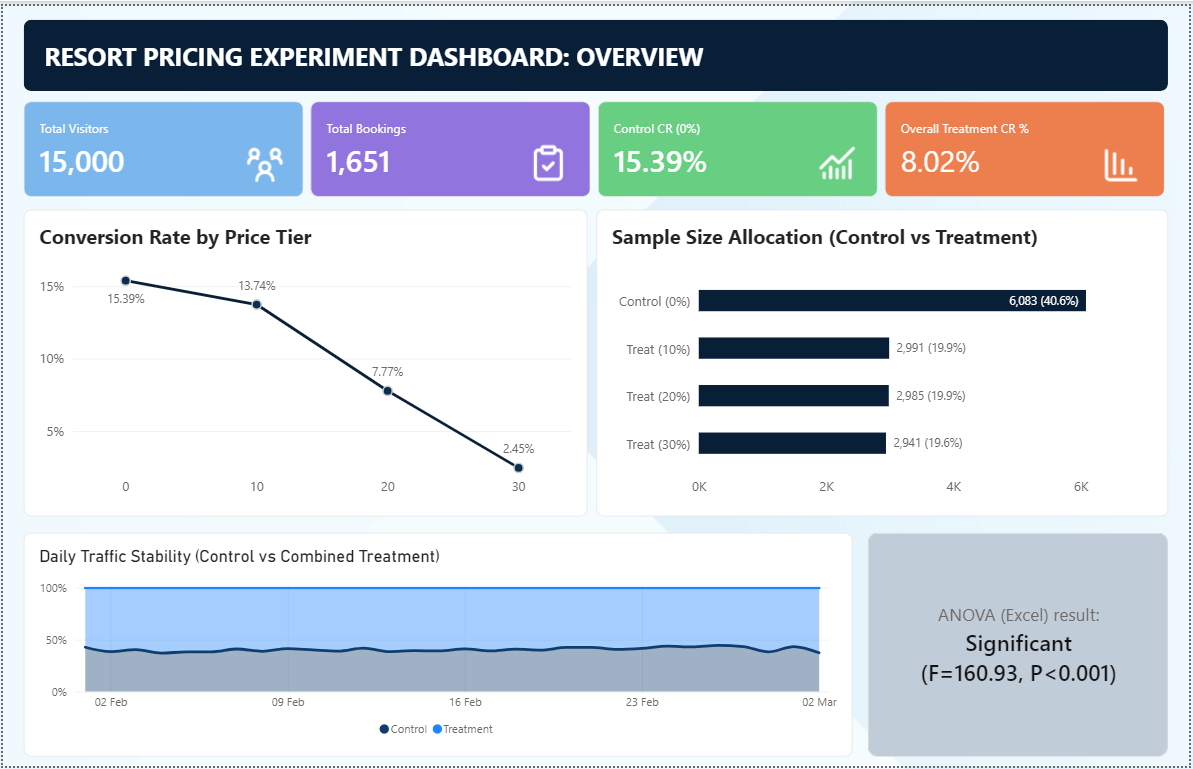

The dashboard page shown, as its layout file describes it:
{"tool":"powerbi","page":{"name":"Overview","canvas":[1280,820],"ordinal":0},"visuals":[{"type":"cardVisual","fields":{"Data":["Measure.Total Visitors","Measure.Total Bookings","Measure.Control CR %","Measure.Treatment CR %"]},"box":[22.3,103.1,1235.4,103.1],"z":0},{"type":"shape","box":[22.3,14.9,1235.4,77],"z":1000},{"type":"lineChart","title":"Conversion Rate by Price Tier","fields":{"Category":["data.price_increase_pct"],"Y":["Measure.Overall Conversion Rate"]},"box":[22.3,219.8,608.4,331.5],"z":2000},{"type":"clusteredBarChart","title":"Sample Size Allocation (Control vs Treatment)","fields":{"Y":["Measure.Total Visitors"],"Category":["data.Group Label"]},"box":[640.7,219.8,617.1,331.5],"z":3000},{"type":"hundredPercentStackedAreaChart","title":"Daily Traffic Stability (Control vs Combined Treatment)","fields":{"Series":["data.group"],"Category":["Dim_Date.Date.Variation.Date Hierarchy.Year","Dim_Date.Date.Variation.Date Hierarchy.Month","Dim_Date.Date.Variation.Date Hierarchy.Day"],"Y":["Measure.Total Visitors"]},"box":[22.3,568.7,895.2,242.1],"z":4000},{"type":"cardVisual","fields":{"Data":["Measure.ANOVA Summary Label"]},"box":[933.7,568.7,324.1,242.1],"z":5000},{"type":"actionButton","box":[249.6,145.3,67,54.6],"z":6000},{"type":"actionButton","box":[560,141.5,57.1,55.9],"z":9500},{"type":"actionButton","box":[869.1,141.5,62.1,55.9],"z":10000},{"type":"actionButton","box":[1178.3,146.5,57.1,50.9],"z":10500}]}

Visuals, with their boxes in screenshot pixels (x1, y1, x2, y2), scaled from the page's 1280x820 canvas onto the 1193x769 screenshot:
cardVisual - Measure.Total Visitors x Measure.Total Bookings: locate(21, 97, 1172, 193)
shape: locate(21, 14, 1172, 86)
"Conversion Rate by Price Tier" lineChart: locate(21, 206, 588, 517)
"Sample Size Allocation (Control vs Treatment)" clusteredBarChart: locate(597, 206, 1172, 517)
"Daily Traffic Stability (Control vs Combined Treatment)" hundredPercentStackedAreaChart: locate(21, 533, 855, 760)
cardVisual - Measure.ANOVA Summary Label: locate(870, 533, 1172, 760)
actionButton: locate(233, 136, 295, 187)
actionButton: locate(522, 133, 575, 185)
actionButton: locate(810, 133, 868, 185)
actionButton: locate(1098, 137, 1151, 185)
